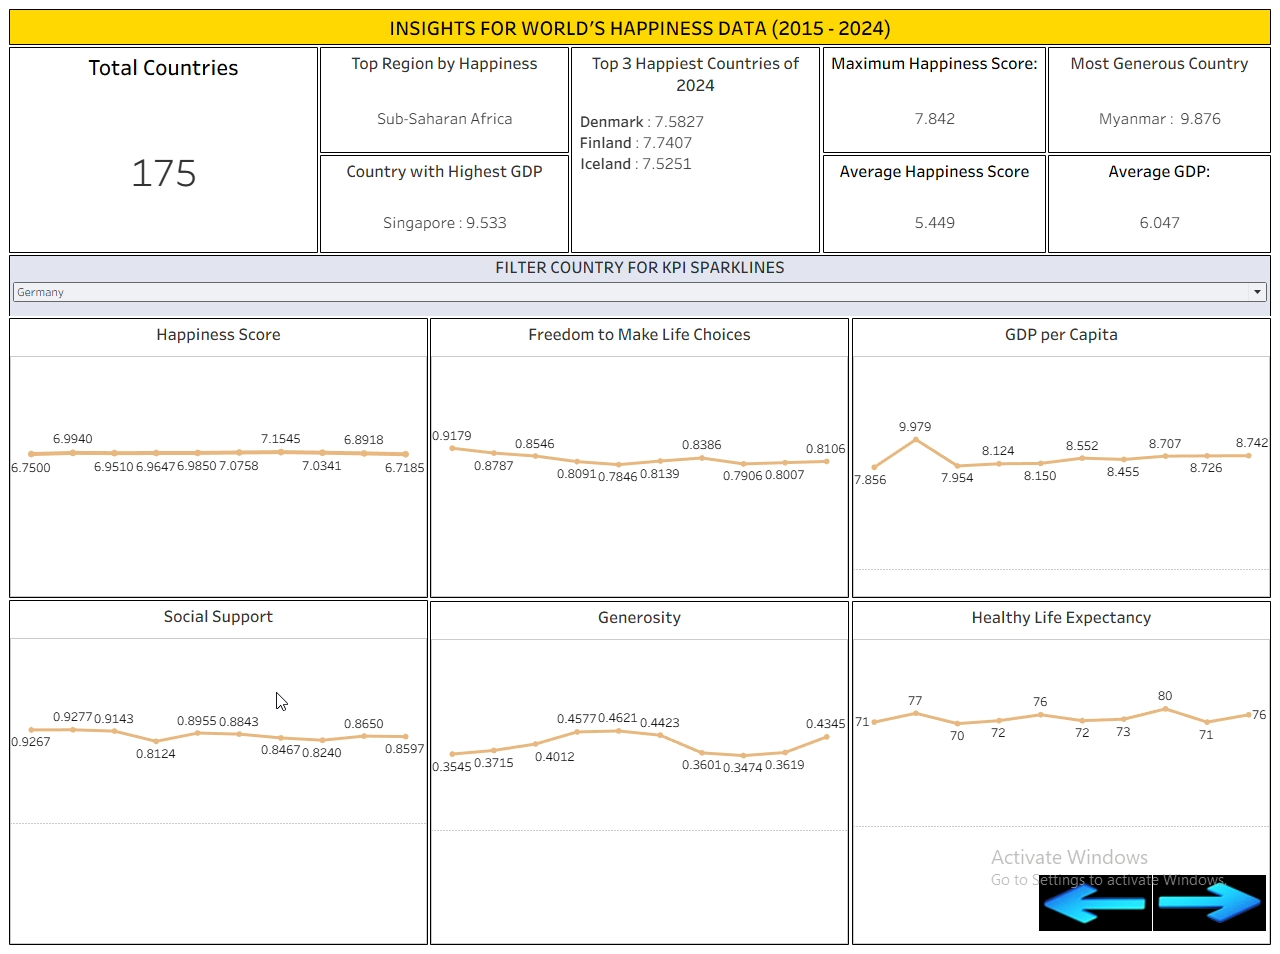

The dashboard page shown, as its layout file describes it:
{"tool":"tableau","page":{"name":"Dashboard 5","canvas":[1000,1000],"units":"permille","ordinal":4},"visuals":[{"type":"text","box":[6.2,8.4,987.5,40.2]},{"type":"image","param":"Image/happiness 1.png","box":[223.6,12.5,27.1,33.8]},{"type":"image","param":"Image/happiness 1.png","box":[749.3,12.5,27.1,33.8]},{"type":"worksheet","title":"Total Countries","mark":"Automatic","box":[6.2,48.6,242.9,217.5]},{"type":"worksheet","title":"Top Region by Happiness","mark":"Automatic","box":[249.1,48.6,196.5,113.2]},{"type":"worksheet","title":"Top 3 Happiest Countries of 2024","mark":"Text","box":[445.6,48.6,196.5,217.5]},{"type":"worksheet","title":"Maximum Happiness Score","mark":"Automatic","box":[642.1,48.6,175.8,113.2]},{"type":"worksheet","title":"Most Generous Country","mark":"Automatic","box":[817.9,48.6,175.8,113.2]},{"type":"worksheet","title":"Country with Highest GDP","mark":"Automatic","box":[249.1,161.8,196.5,104.4]},{"type":"worksheet","title":"Average Happiness Score","mark":"Automatic","box":[642.1,161.8,175.8,104.4]},{"type":"worksheet","title":"Average GDP","mark":"Automatic","box":[817.9,161.8,175.8,104.4]},{"type":"filter","title":"KPI Sparkline Happiness Score","param":"[federated.0bmoz6j1ncyzlt1dp10531xplwxu].[none:Country:nk]","box":[6.2,266.1,987.5,66.6]},{"type":"worksheet","title":"KPI Sparkline Happiness Score","mark":"Line","rows":["Country","Happiness score"],"cols":["Year"],"box":[6.2,332.8,329.1,295.5]},{"type":"worksheet","title":"KPI Sparkline Freedom to Make Life Choices","mark":"Line","rows":["Country","Freedom to make life choices"],"cols":["Year"],"box":[335.4,332.8,329.2,296.1]},{"type":"worksheet","title":"KPI Sparkline GDP per Capita","mark":"Line","rows":["Country","GDP per capita"],"cols":["Year"],"box":[664.6,332.8,329.2,296.1]},{"type":"worksheet","title":"KPI Sparkline Social Support","mark":"Line","rows":["Country","Social support"],"cols":["Year"],"box":[6.2,628.2,329.1,363.4]},{"type":"worksheet","title":"KPI Sparkline Generosity","mark":"Line","rows":["Country","Generosity"],"cols":["Year"],"box":[335.4,628.9,329.2,362.8]},{"type":"worksheet","title":"KPI Sparkline Healthy Life Expectancy","mark":"Line","rows":["Country","Healthy life expectancy"],"cols":["Year"],"box":[664.6,628.9,329.2,362.8]},{"type":"dashboard-object","box":[812,917.3,87.9,58.9]},{"type":"dashboard-object","box":[900.8,917.3,87.9,58.9]}]}

Visuals, with their boxes on the dashboard's canvas, which has no fixed pixel size, in thousandths of its width and height (x1, y1, x2, y2). These are canvas units, not pixel positions in the 1280x954 screenshot, which may show the page scaled, cropped or inside an application window:
text: rect(6, 8, 994, 49)
image: rect(224, 12, 251, 46)
image: rect(749, 12, 776, 46)
"Total Countries" worksheet: rect(6, 49, 249, 266)
"Top Region by Happiness" worksheet: rect(249, 49, 446, 162)
"Top 3 Happiest Countries of 2024" worksheet (Text marks): rect(446, 49, 642, 266)
"Maximum Happiness Score" worksheet: rect(642, 49, 818, 162)
"Most Generous Country" worksheet: rect(818, 49, 994, 162)
"Country with Highest GDP" worksheet: rect(249, 162, 446, 266)
"Average Happiness Score" worksheet: rect(642, 162, 818, 266)
"Average GDP" worksheet: rect(818, 162, 994, 266)
"KPI Sparkline Happiness Score" filter: rect(6, 266, 994, 333)
"KPI Sparkline Happiness Score" worksheet (Line marks): rect(6, 333, 335, 628)
"KPI Sparkline Freedom to Make Life Choices" worksheet (Line marks): rect(335, 333, 665, 629)
"KPI Sparkline GDP per Capita" worksheet (Line marks): rect(665, 333, 994, 629)
"KPI Sparkline Social Support" worksheet (Line marks): rect(6, 628, 335, 992)
"KPI Sparkline Generosity" worksheet (Line marks): rect(335, 629, 665, 992)
"KPI Sparkline Healthy Life Expectancy" worksheet (Line marks): rect(665, 629, 994, 992)
dashboard-object: rect(812, 917, 900, 976)
dashboard-object: rect(901, 917, 989, 976)
